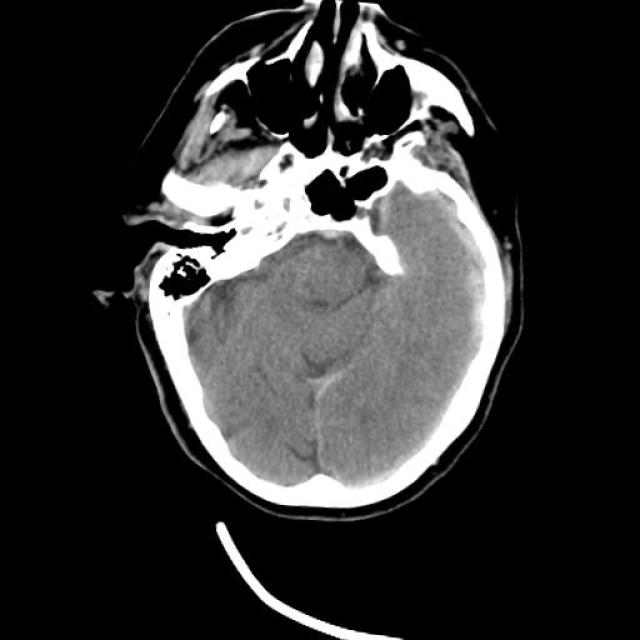Subdural: (420, 192, 519, 362)
